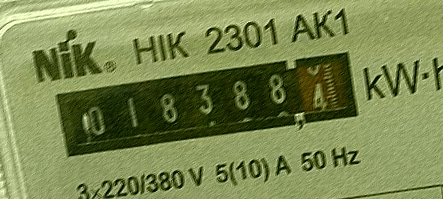0: (83, 101, 107, 139)
1: (120, 91, 143, 130)
3: (192, 80, 216, 117)
4: (306, 78, 330, 113)
8: (263, 69, 289, 107), (155, 88, 180, 126), (228, 77, 252, 114)
screen: (45, 40, 372, 169)
